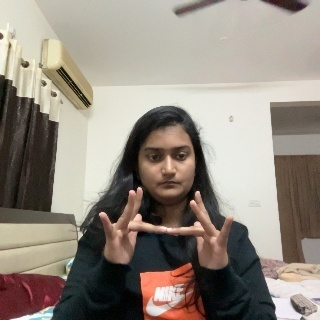Internet: (100, 188, 234, 282)
